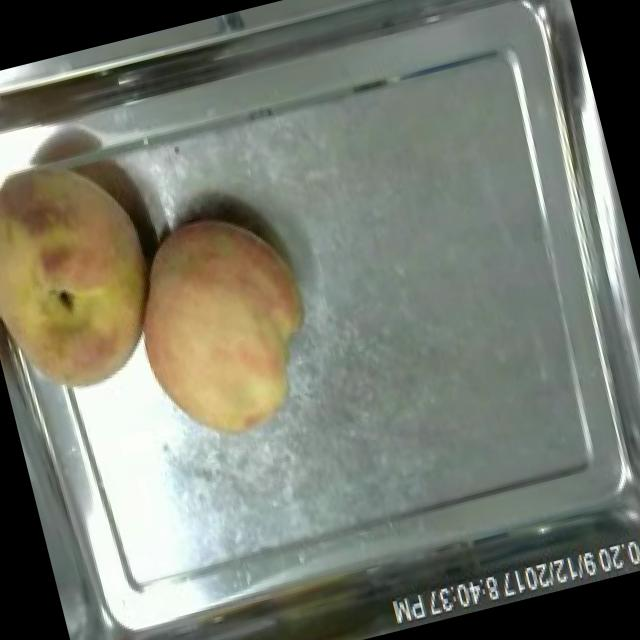Fruit: (105, 192, 338, 462), (0, 132, 186, 414)
